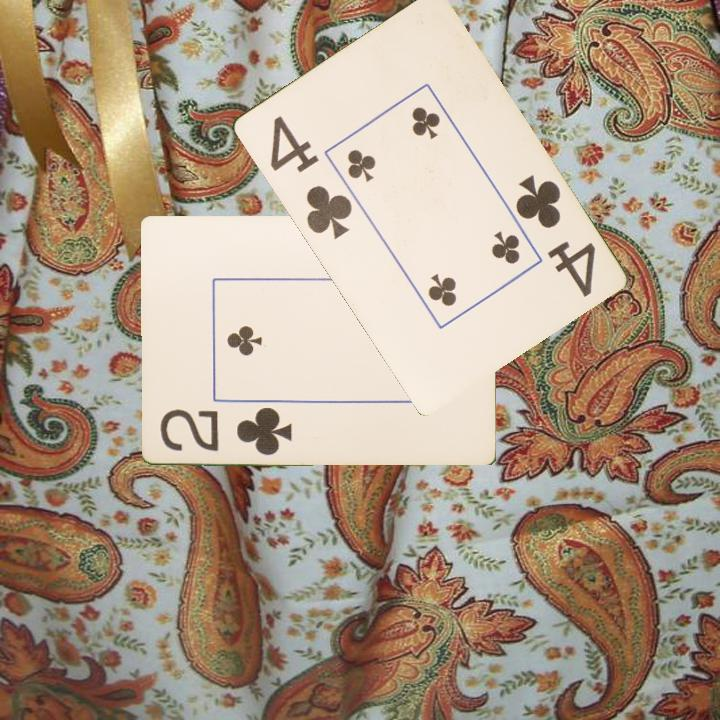2c: (157, 403, 295, 458)
4c: (265, 112, 355, 242), (511, 170, 599, 300)
